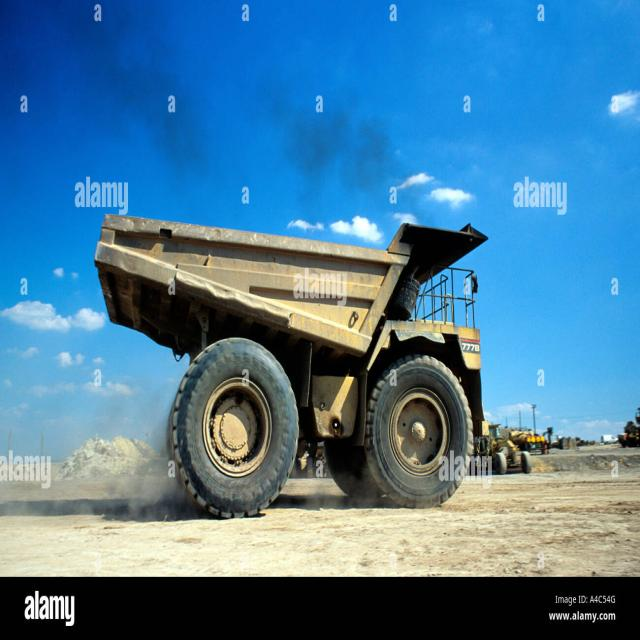dump_truck: (79, 150, 493, 534)
